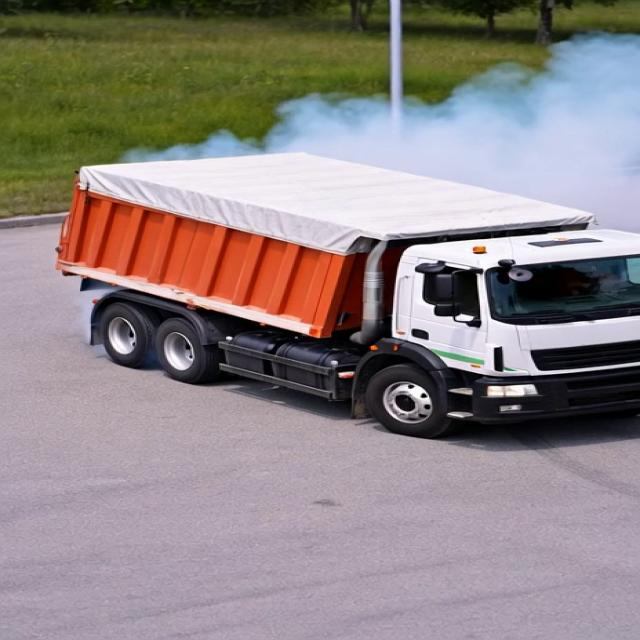trailer: (59, 152, 598, 240)
truck: (44, 117, 624, 430)
